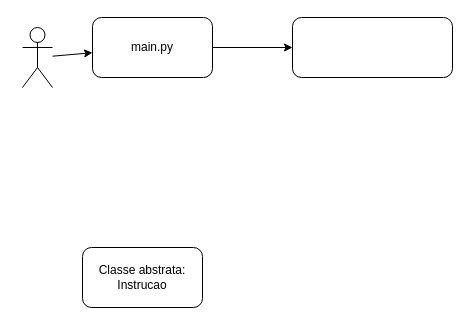
This 470x325 diagram has some shape labels left out. The shapes that lost their labels are listed below. From the top down, each one's box as (x1, y1, x2, y2) in pixels, then its label:
(22, 26, 52, 88): Usuário
(292, 16, 452, 78): interpretador_assembly
